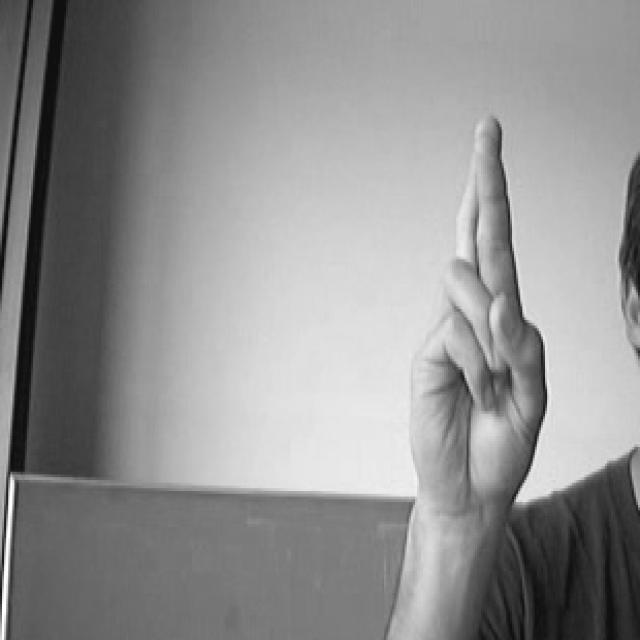R: (393, 103, 560, 525)
